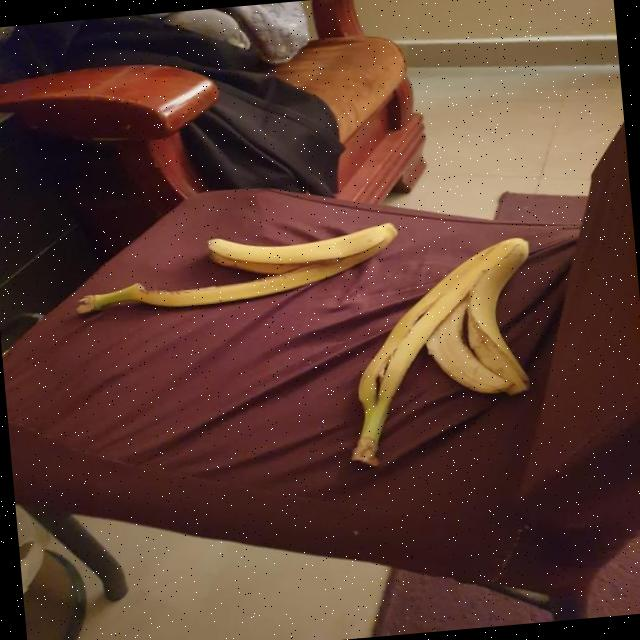banana-peel: (331, 233, 547, 468), (69, 218, 402, 318)
